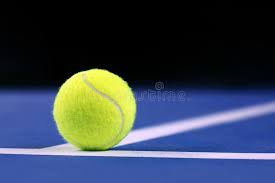tennis_ball: (51, 66, 137, 151)
